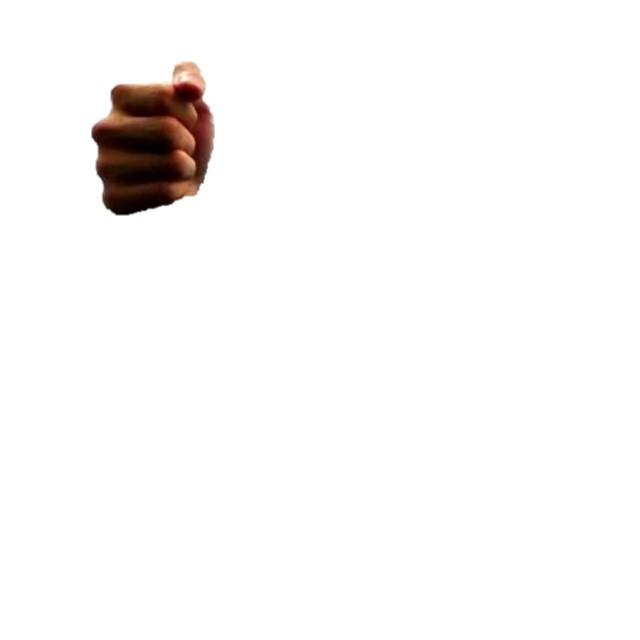gu-: (86, 59, 218, 218)
